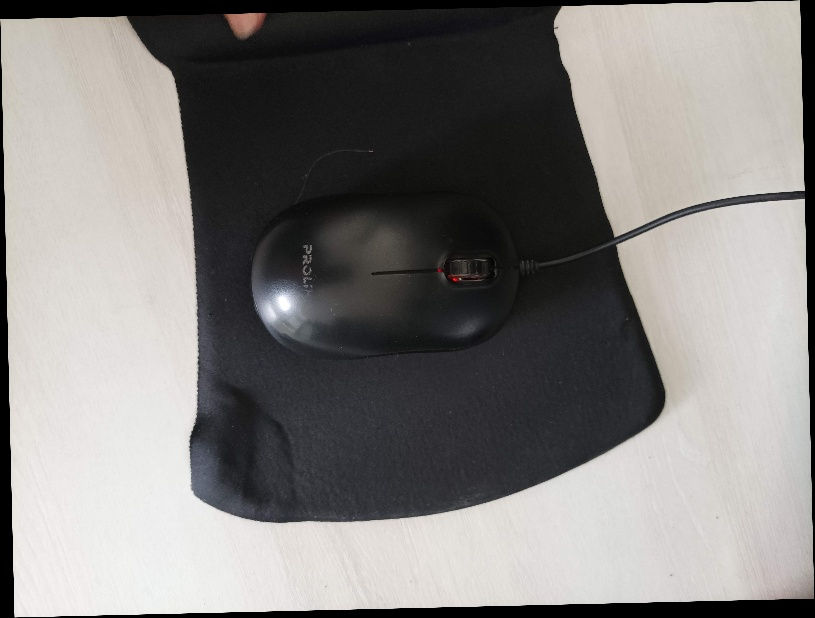mouse: (246, 187, 536, 364)
